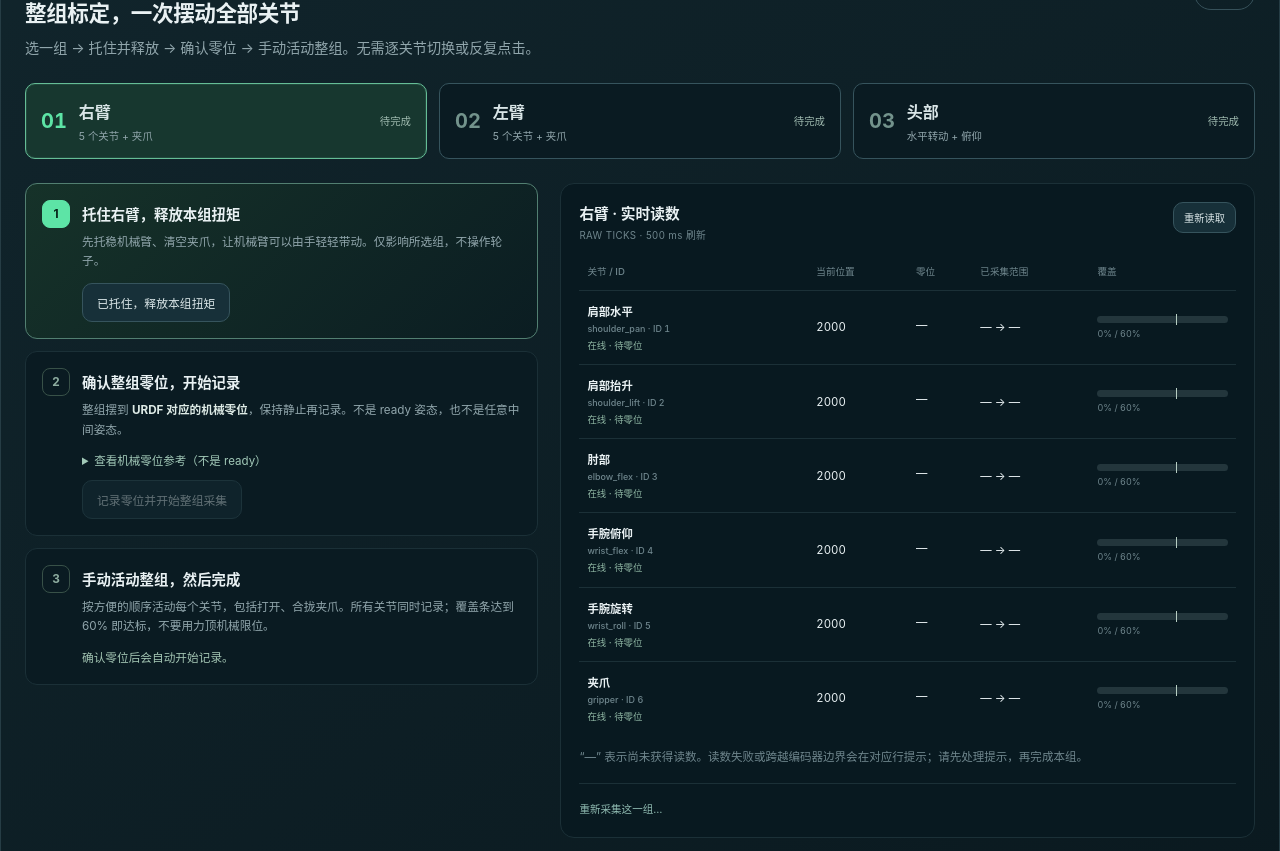
Test case: whole-group servo calibration › captures zero then starts all joints, finishes the group, and needs no joint selection
Click the button "已托住，释放本组扭矩" at (156, 303), box [82, 283, 230, 322]
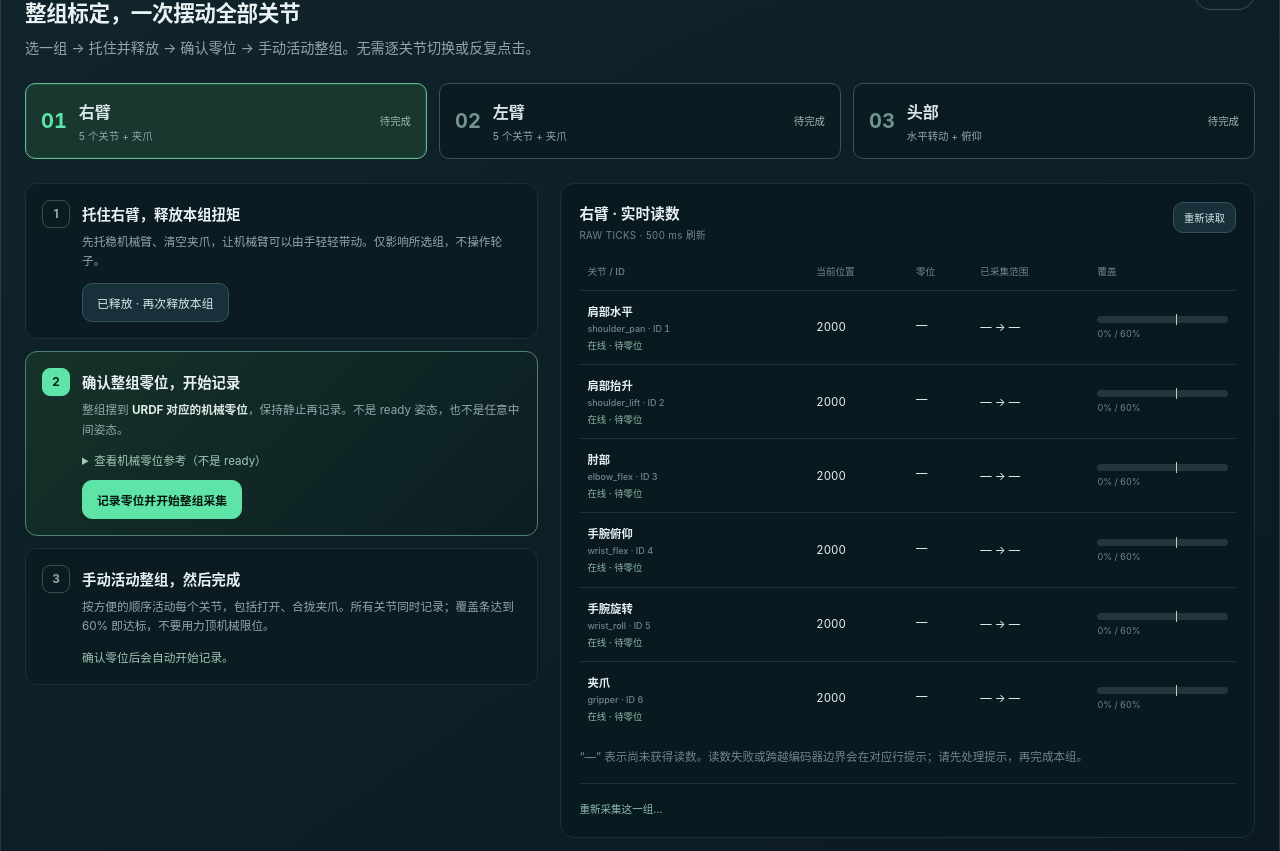
Click the button "记录零位并开始整组采集" at (162, 499), box [82, 480, 242, 519]
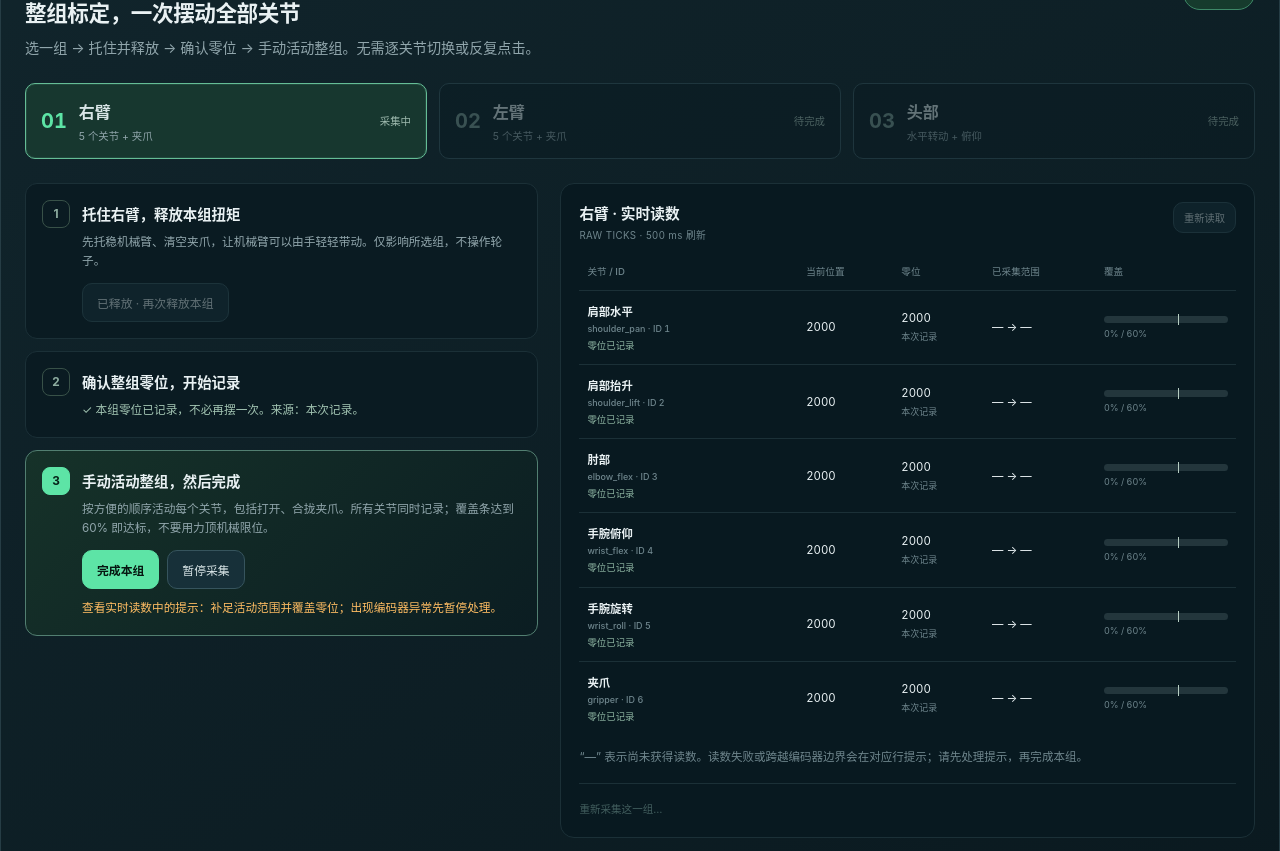
Check: the button "02 左臂 5 个关节 + 夹爪 待完成" is disabled, box [439, 83, 841, 159]
Click the button "完成本组" at (121, 570), box [82, 550, 159, 589]
(page scrolled)
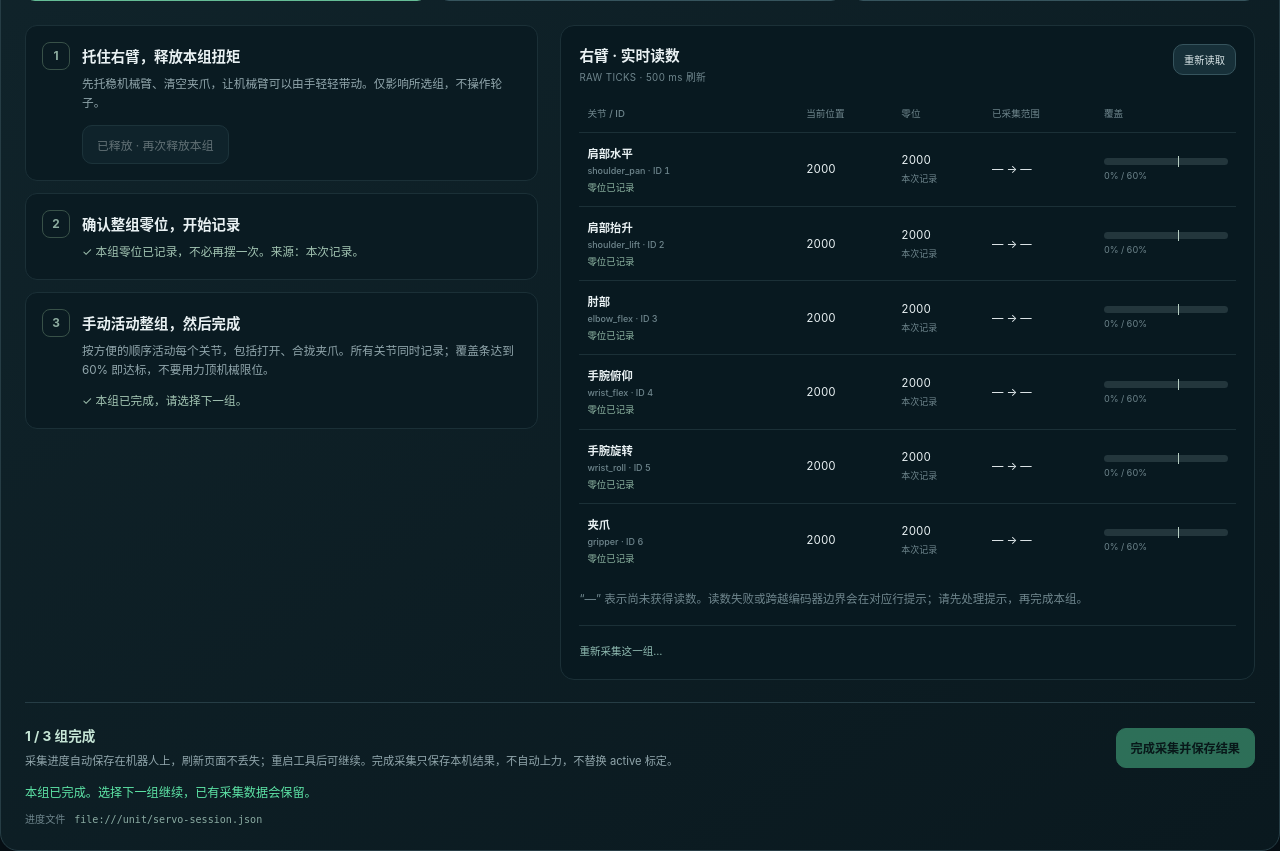
Check: the button "完成采集并保存结果" is disabled, box [1116, 728, 1255, 768]
Check: the text "1 / 3 组完成" is shown, box [25, 728, 95, 744]
